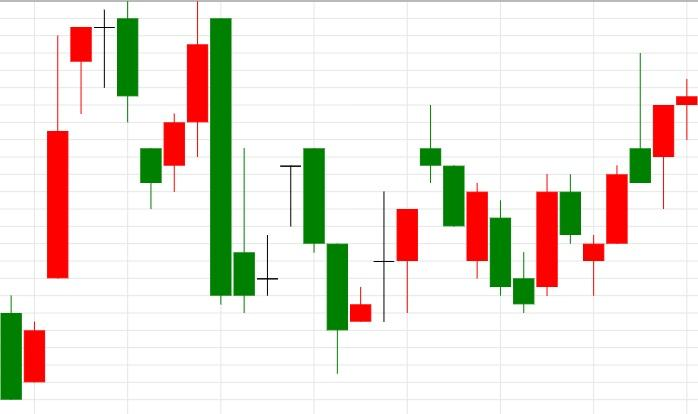evening_star_fall: (0, 0, 139, 400)
shooting_star_fall: (512, 53, 651, 313)
